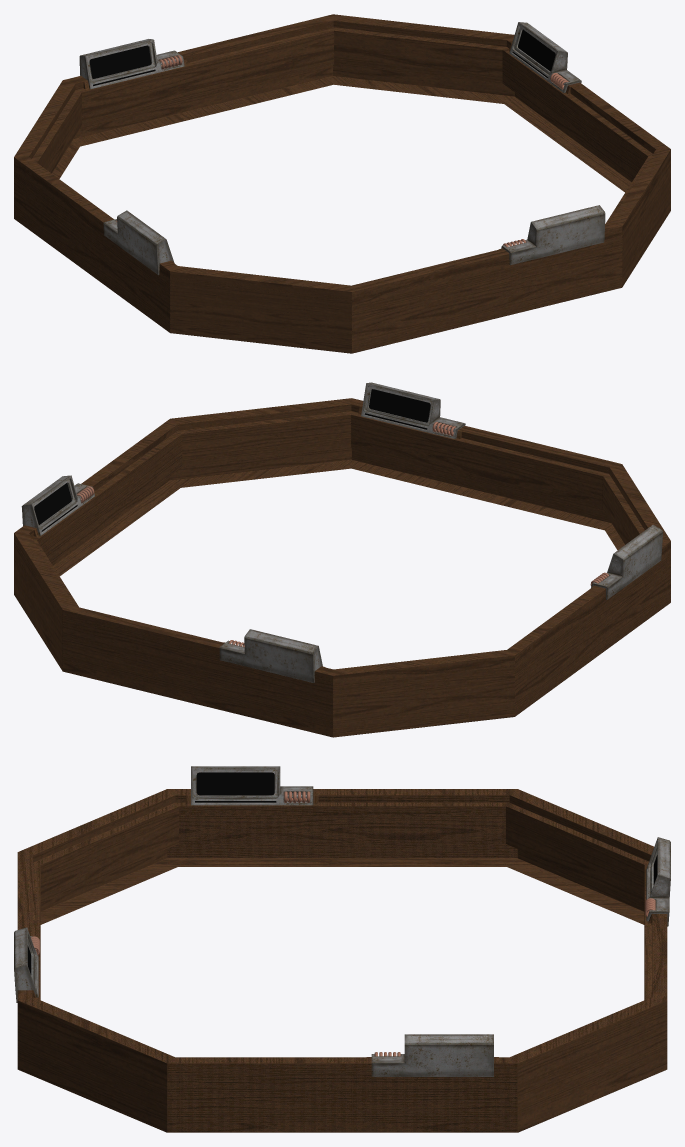
File: mp_vertical health indicator wood frame1.glb
3 views of the same model, one above another, from view 1: azimuth 30°, elevation 25°; view 2: azimuth 150°, elevation 25°; view 3: azimuth 270°, elevation 25° (orthographic). The views are drawn at different scales.
Visible parts, largest first — view 1: tabletop wood frame new1, health counter vertical parent, health counter vertical parent_002, health counter vertical parent_003, health counter vertical parent_001; view 2: tabletop wood frame new1, health counter vertical parent_002, health counter vertical parent, health counter vertical parent_001, health counter vertical parent_003; view 3: tabletop wood frame new1, health counter vertical parent_003, health counter vertical parent_001, health counter vertical parent_002, health counter vertical parent.
Boxes of the visible parts, x1=… form: tabletop wood frame new1: x1=14, y1=14, x2=670, y2=353; health counter vertical parent: x1=501, y1=205, x2=605, y2=265; health counter vertical parent_002: x1=79, y1=39, x2=184, y2=89; health counter vertical parent_003: x1=509, y1=22, x2=581, y2=92; health counter vertical parent_001: x1=103, y1=210, x2=174, y2=275; tabletop wood frame new1: x1=14, y1=398, x2=670, y2=737; health counter vertical parent_002: x1=219, y1=629, x2=322, y2=682; health counter vertical parent: x1=361, y1=382, x2=465, y2=438; health counter vertical parent_001: x1=591, y1=524, x2=663, y2=599; health counter vertical parent_003: x1=21, y1=475, x2=94, y2=535; tabletop wood frame new1: x1=17, y1=789, x2=667, y2=1132; health counter vertical parent_003: x1=371, y1=1034, x2=493, y2=1076; health counter vertical parent_001: x1=191, y1=766, x2=313, y2=805; health counter vertical parent_002: x1=646, y1=837, x2=670, y2=926; health counter vertical parent: x1=14, y1=927, x2=38, y2=1002.
Bounding box in the file's own units: 22.85 × 3.63 × 22.85.
4 materials, 3 textured.
